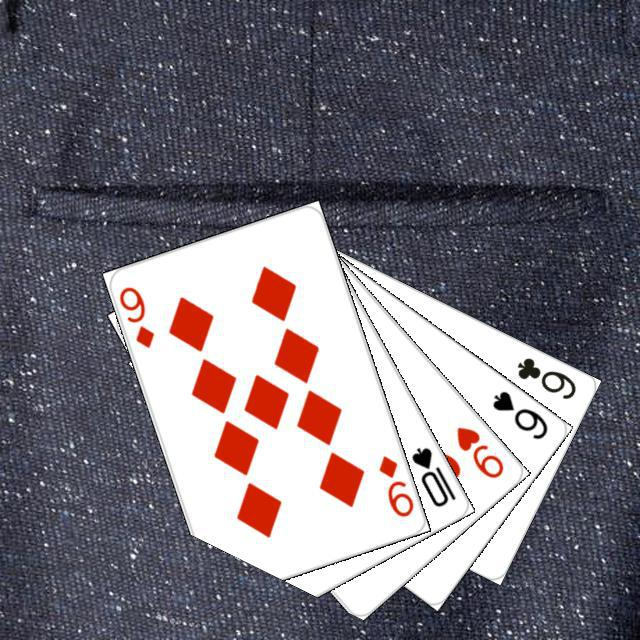10s: (406, 442, 458, 509)
6c: (512, 352, 578, 402)
6s: (487, 385, 550, 442)
9d: (114, 281, 157, 350), (374, 450, 415, 519)
9h: (451, 421, 506, 480)
